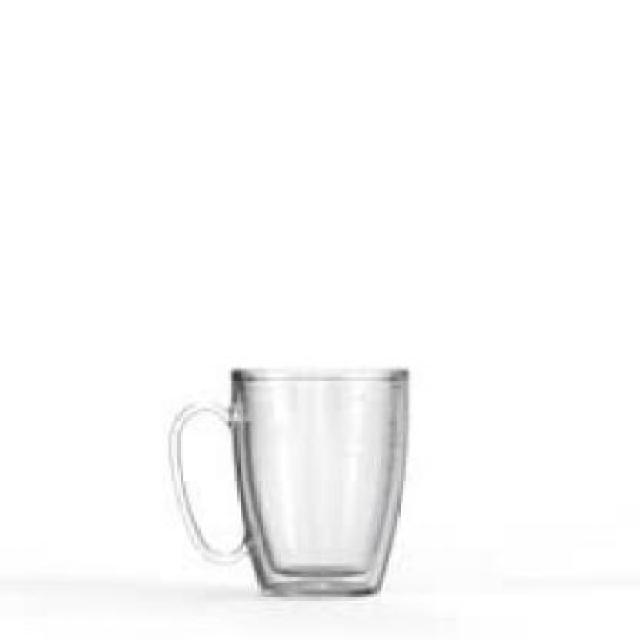kaca: (166, 363, 403, 591)
